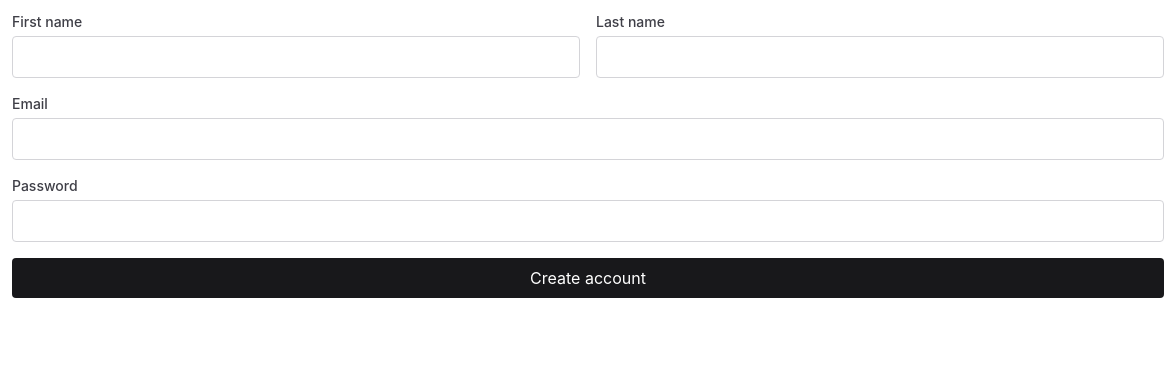
SignUpForm › shows error when email already exists
This screenshot has width=1176, height=369.
Type "A" into the field with test id "signup-first-name-input" at (296, 57), box [12,36,580,78]
Type "One" into the field with test id "signup-last-name-input" at (880, 57), box [596,36,1164,78]
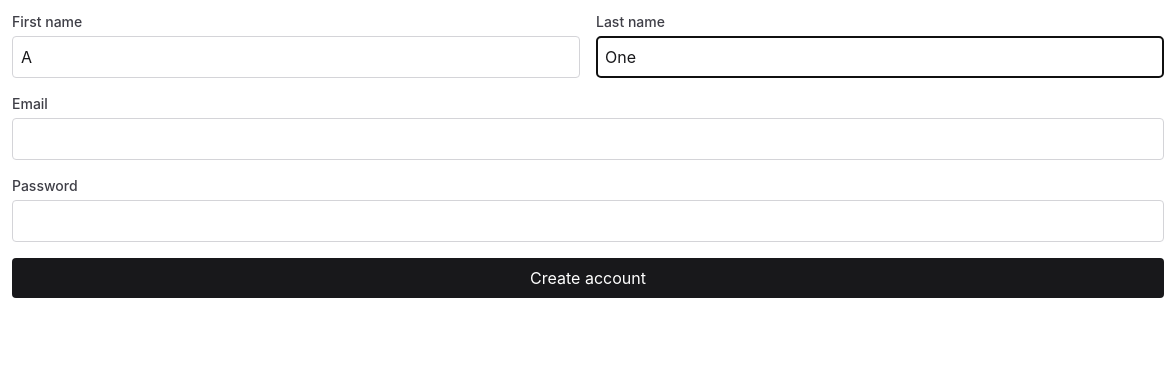
Type "a@example.com" into the field with test id "signup-email-input" at (588, 139), box [12,118,1164,160]
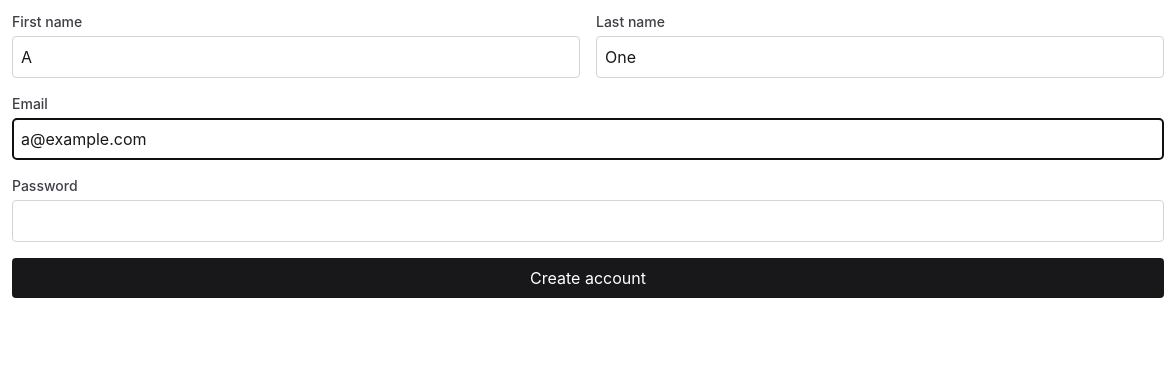
Type "secret" into the password field with test id "signup-password-input" at (588, 221), box [12,200,1164,242]
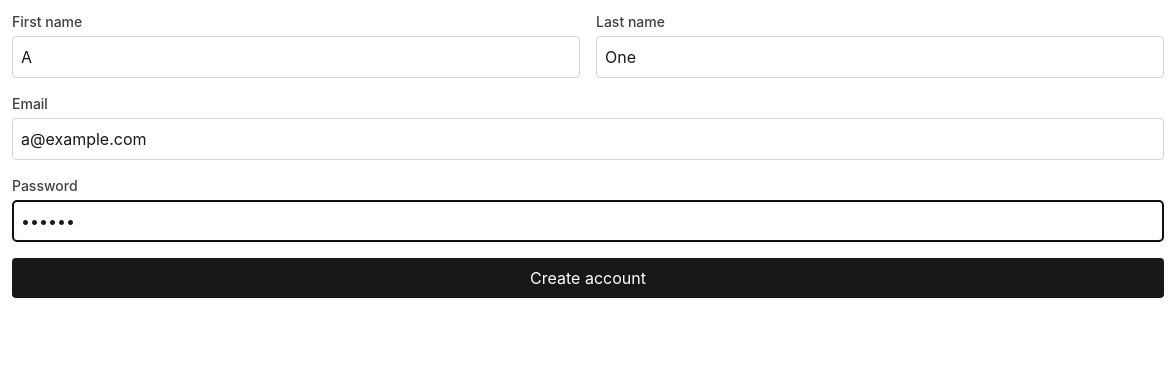
Click the button with test id "signup-submit-button" at (588, 278), box [12,258,1164,298]
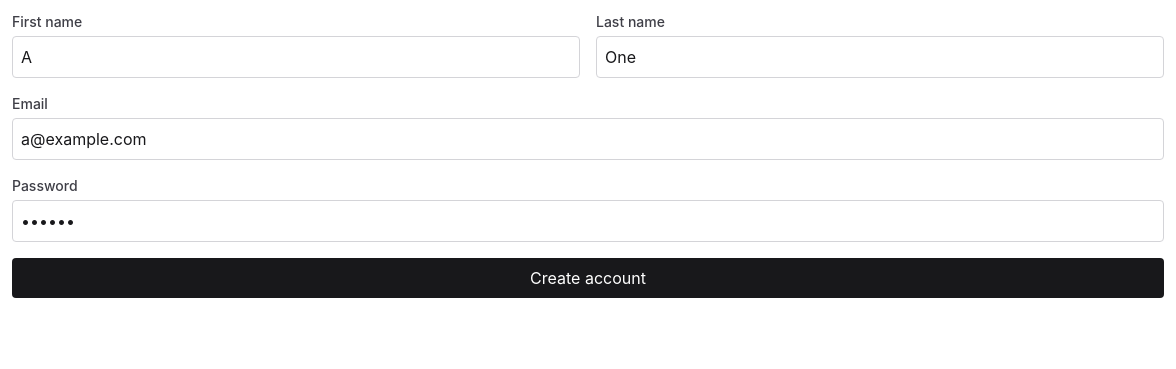
# Try to sign up again with the same email.
Replace the text in the field with test id "signup-last-name-input" with "Two" at (880, 57), box [596,36,1164,78]
Type "secret2" into the password field with test id "signup-password-input" at (588, 221), box [12,200,1164,242]
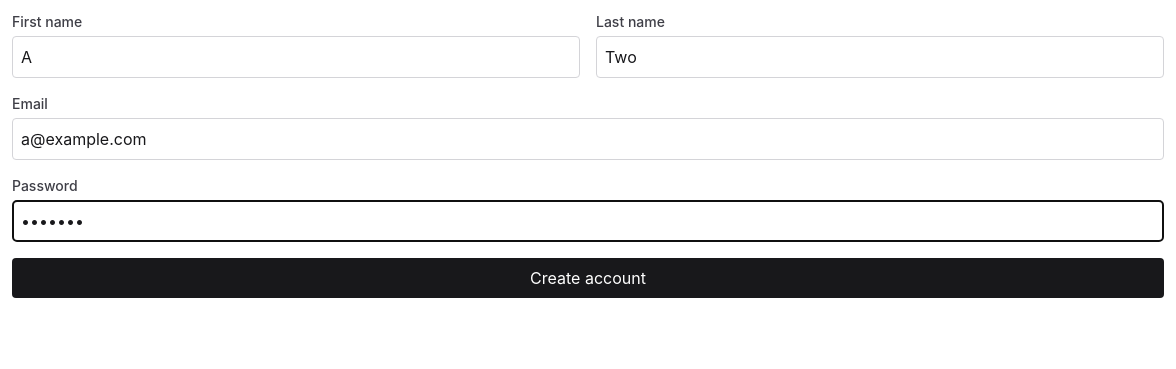
Click the button with test id "signup-submit-button" at (588, 278), box [12,258,1164,298]
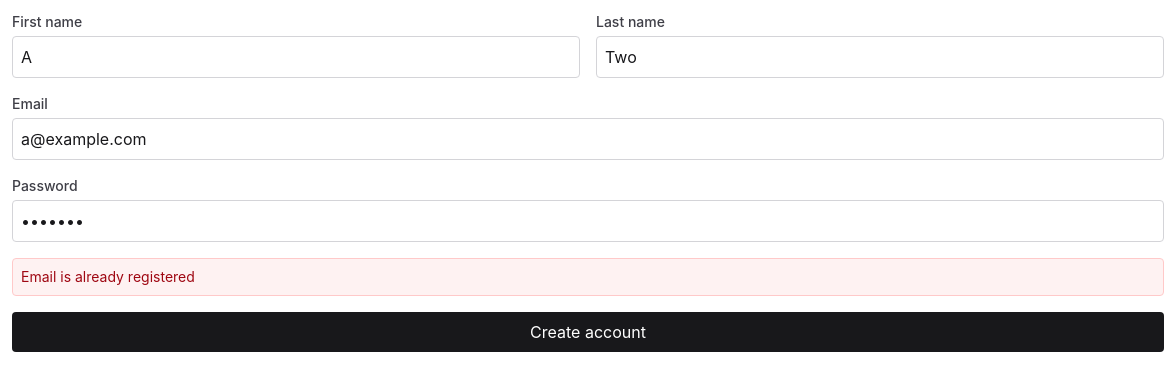
Expected: the message reads "Email is already registered", [21,268,195,285]
